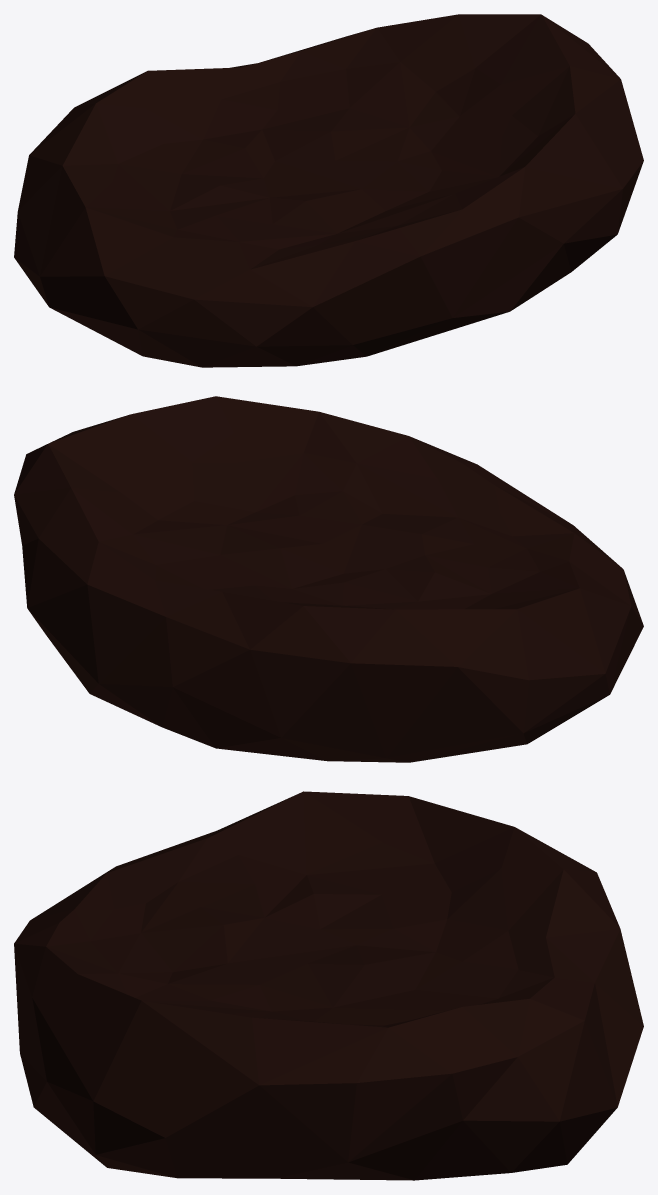
The model's file is patty (1).fbx.
The picture shows the model from 3 angles, top to bottom: view 1: azimuth 30°, elevation 25°; view 2: azimuth 150°, elevation 25°; view 3: azimuth 270°, elevation 25°; orthographic projection. The views are drawn at different scales.
Parts seen in each view (by area): view 1: Cylinder001; view 2: Cylinder001; view 3: Cylinder001.
Boxes of the visible parts, x1,y1,x2,y2 form: Cylinder001: (14,14,643,367); Cylinder001: (14,396,643,762); Cylinder001: (14,791,643,1180).
Bounding box in the file's own units: 1.62 × 0.5404 × 1.28.
